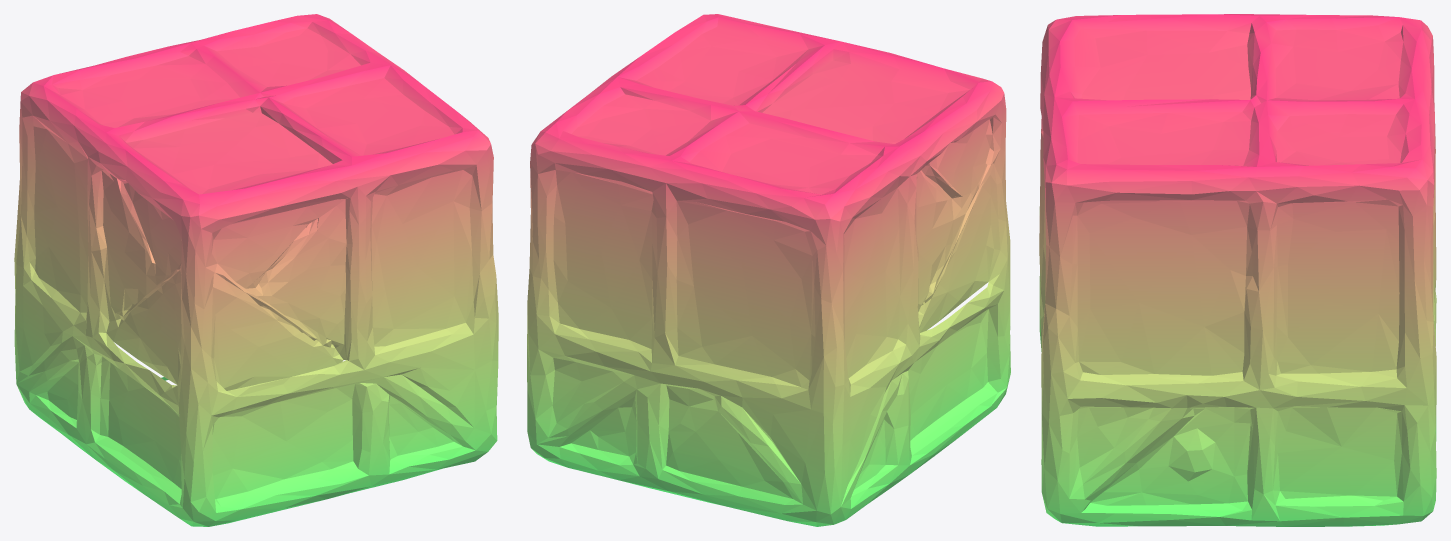
Rendered from 190_cyb_laser_gradient_fish_scales_2964_2026_10_03_34d965.glb.
3 views of the same model, side by side, from view 1: azimuth 30°, elevation 25°; view 2: azimuth 150°, elevation 25°; view 3: azimuth 270°, elevation 25° (orthographic). The views are drawn at different scales.
Parts seen in each view (by area): view 1: geometry_0; view 2: geometry_0; view 3: geometry_0.
Part boxes in pixels (left/top/right/bottom): geometry_0: left=14, top=14, right=498, bottom=526; geometry_0: left=527, top=14, right=1010, bottom=526; geometry_0: left=1039, top=14, right=1436, bottom=526.
Size of the model in its own units: 0.9994 by 1 by 0.9981.
